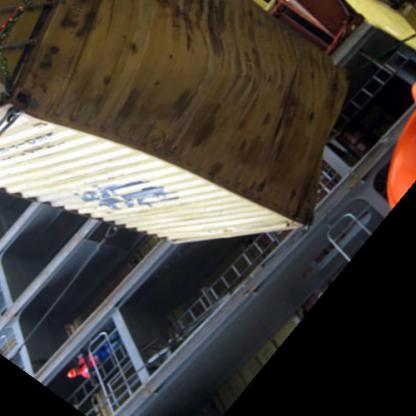Damage: (248, 72, 310, 198)
